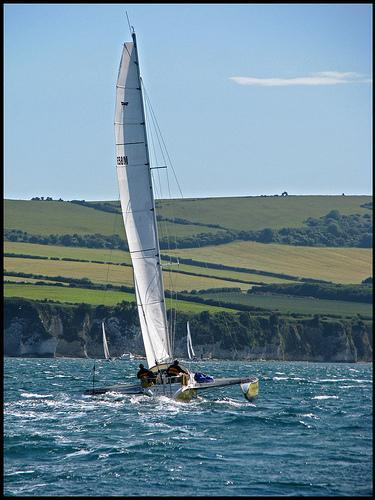Ship: (86, 33, 260, 407)
